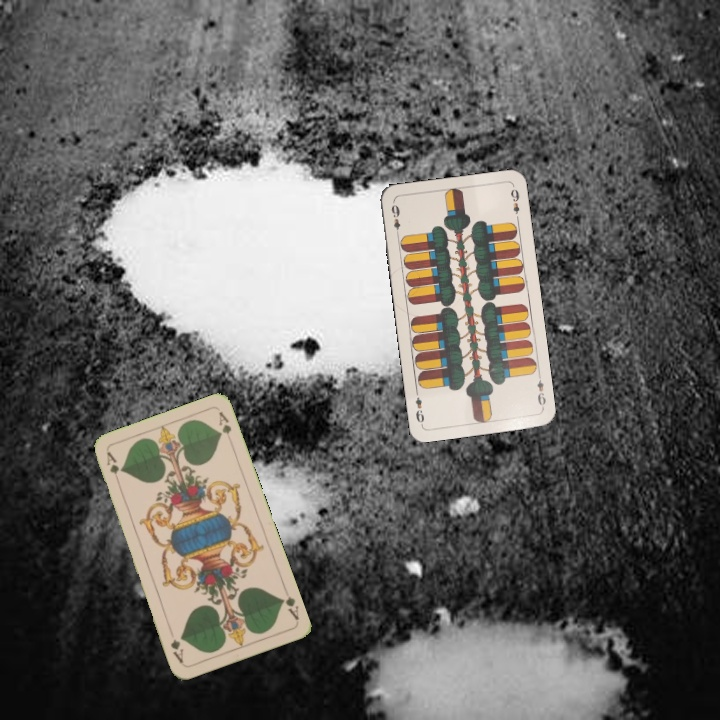E9: (387, 199, 403, 239), (533, 370, 548, 411)
GA: (102, 447, 123, 487), (276, 592, 301, 623)
